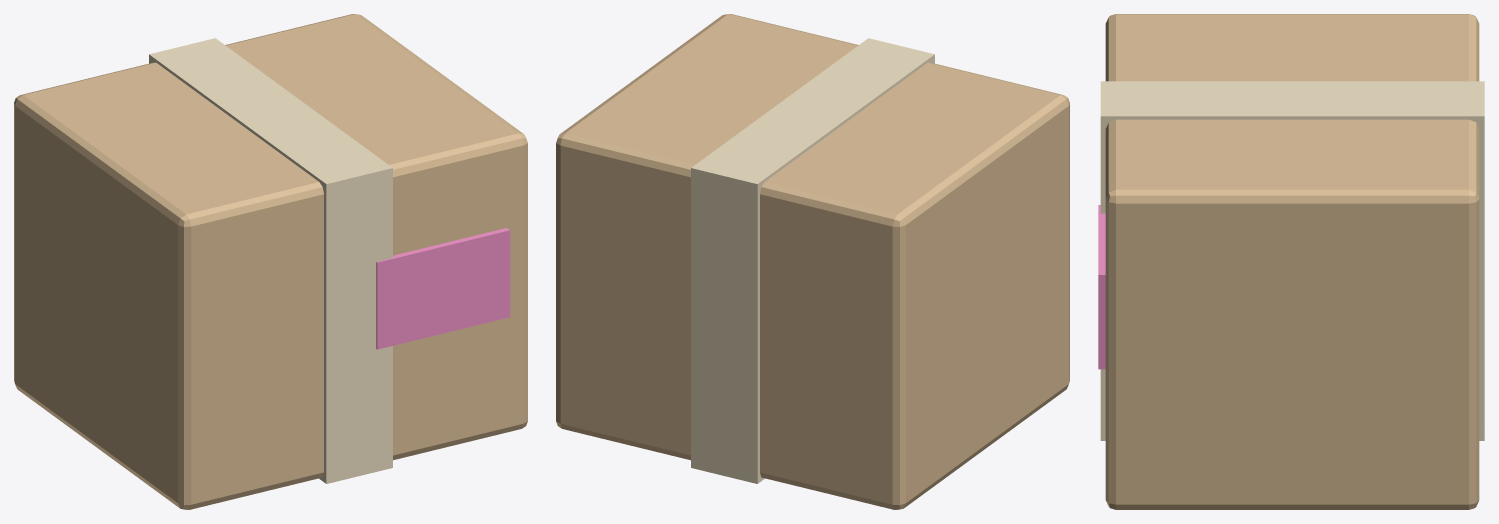
The model's file is Pieza3.fbx.
3 renders of one model, left to right at view 1: azimuth 30°, elevation 25°; view 2: azimuth 150°, elevation 25°; view 3: azimuth 270°, elevation 25°, orthographic. The views are drawn at different scales.
Parts seen in each view (by area): view 1: Cuerpo, Color; view 2: Cuerpo; view 3: Cuerpo, Color.
Part boxes in pixels (left/top/right/bottom): Cuerpo: left=14, top=14, right=527, bottom=509; Color: left=376, top=228, right=510, bottom=349; Cuerpo: left=556, top=14, right=1069, bottom=509; Cuerpo: left=1100, top=14, right=1484, bottom=509; Color: left=1098, top=205, right=1105, bottom=369.
Size of the model in its own units: 0.42 by 0.345 by 0.372.
